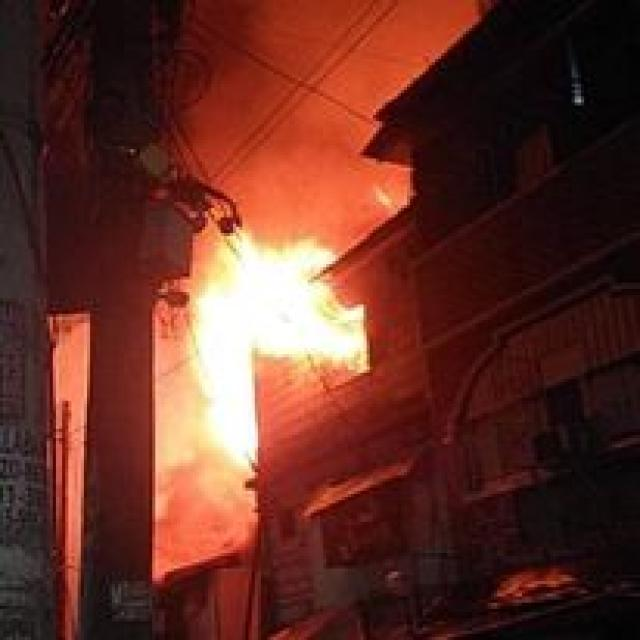Fire: (182, 226, 362, 466)
